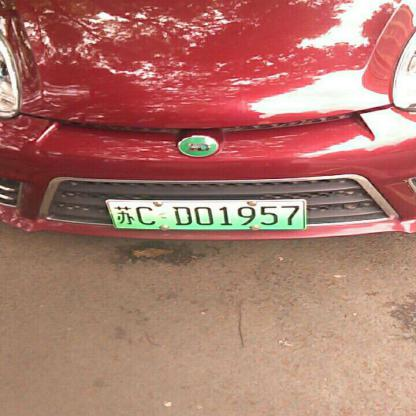lp: (108, 201, 305, 228)
